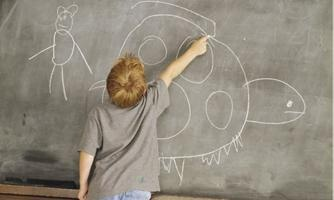person without safety: (90, 54, 171, 200)
